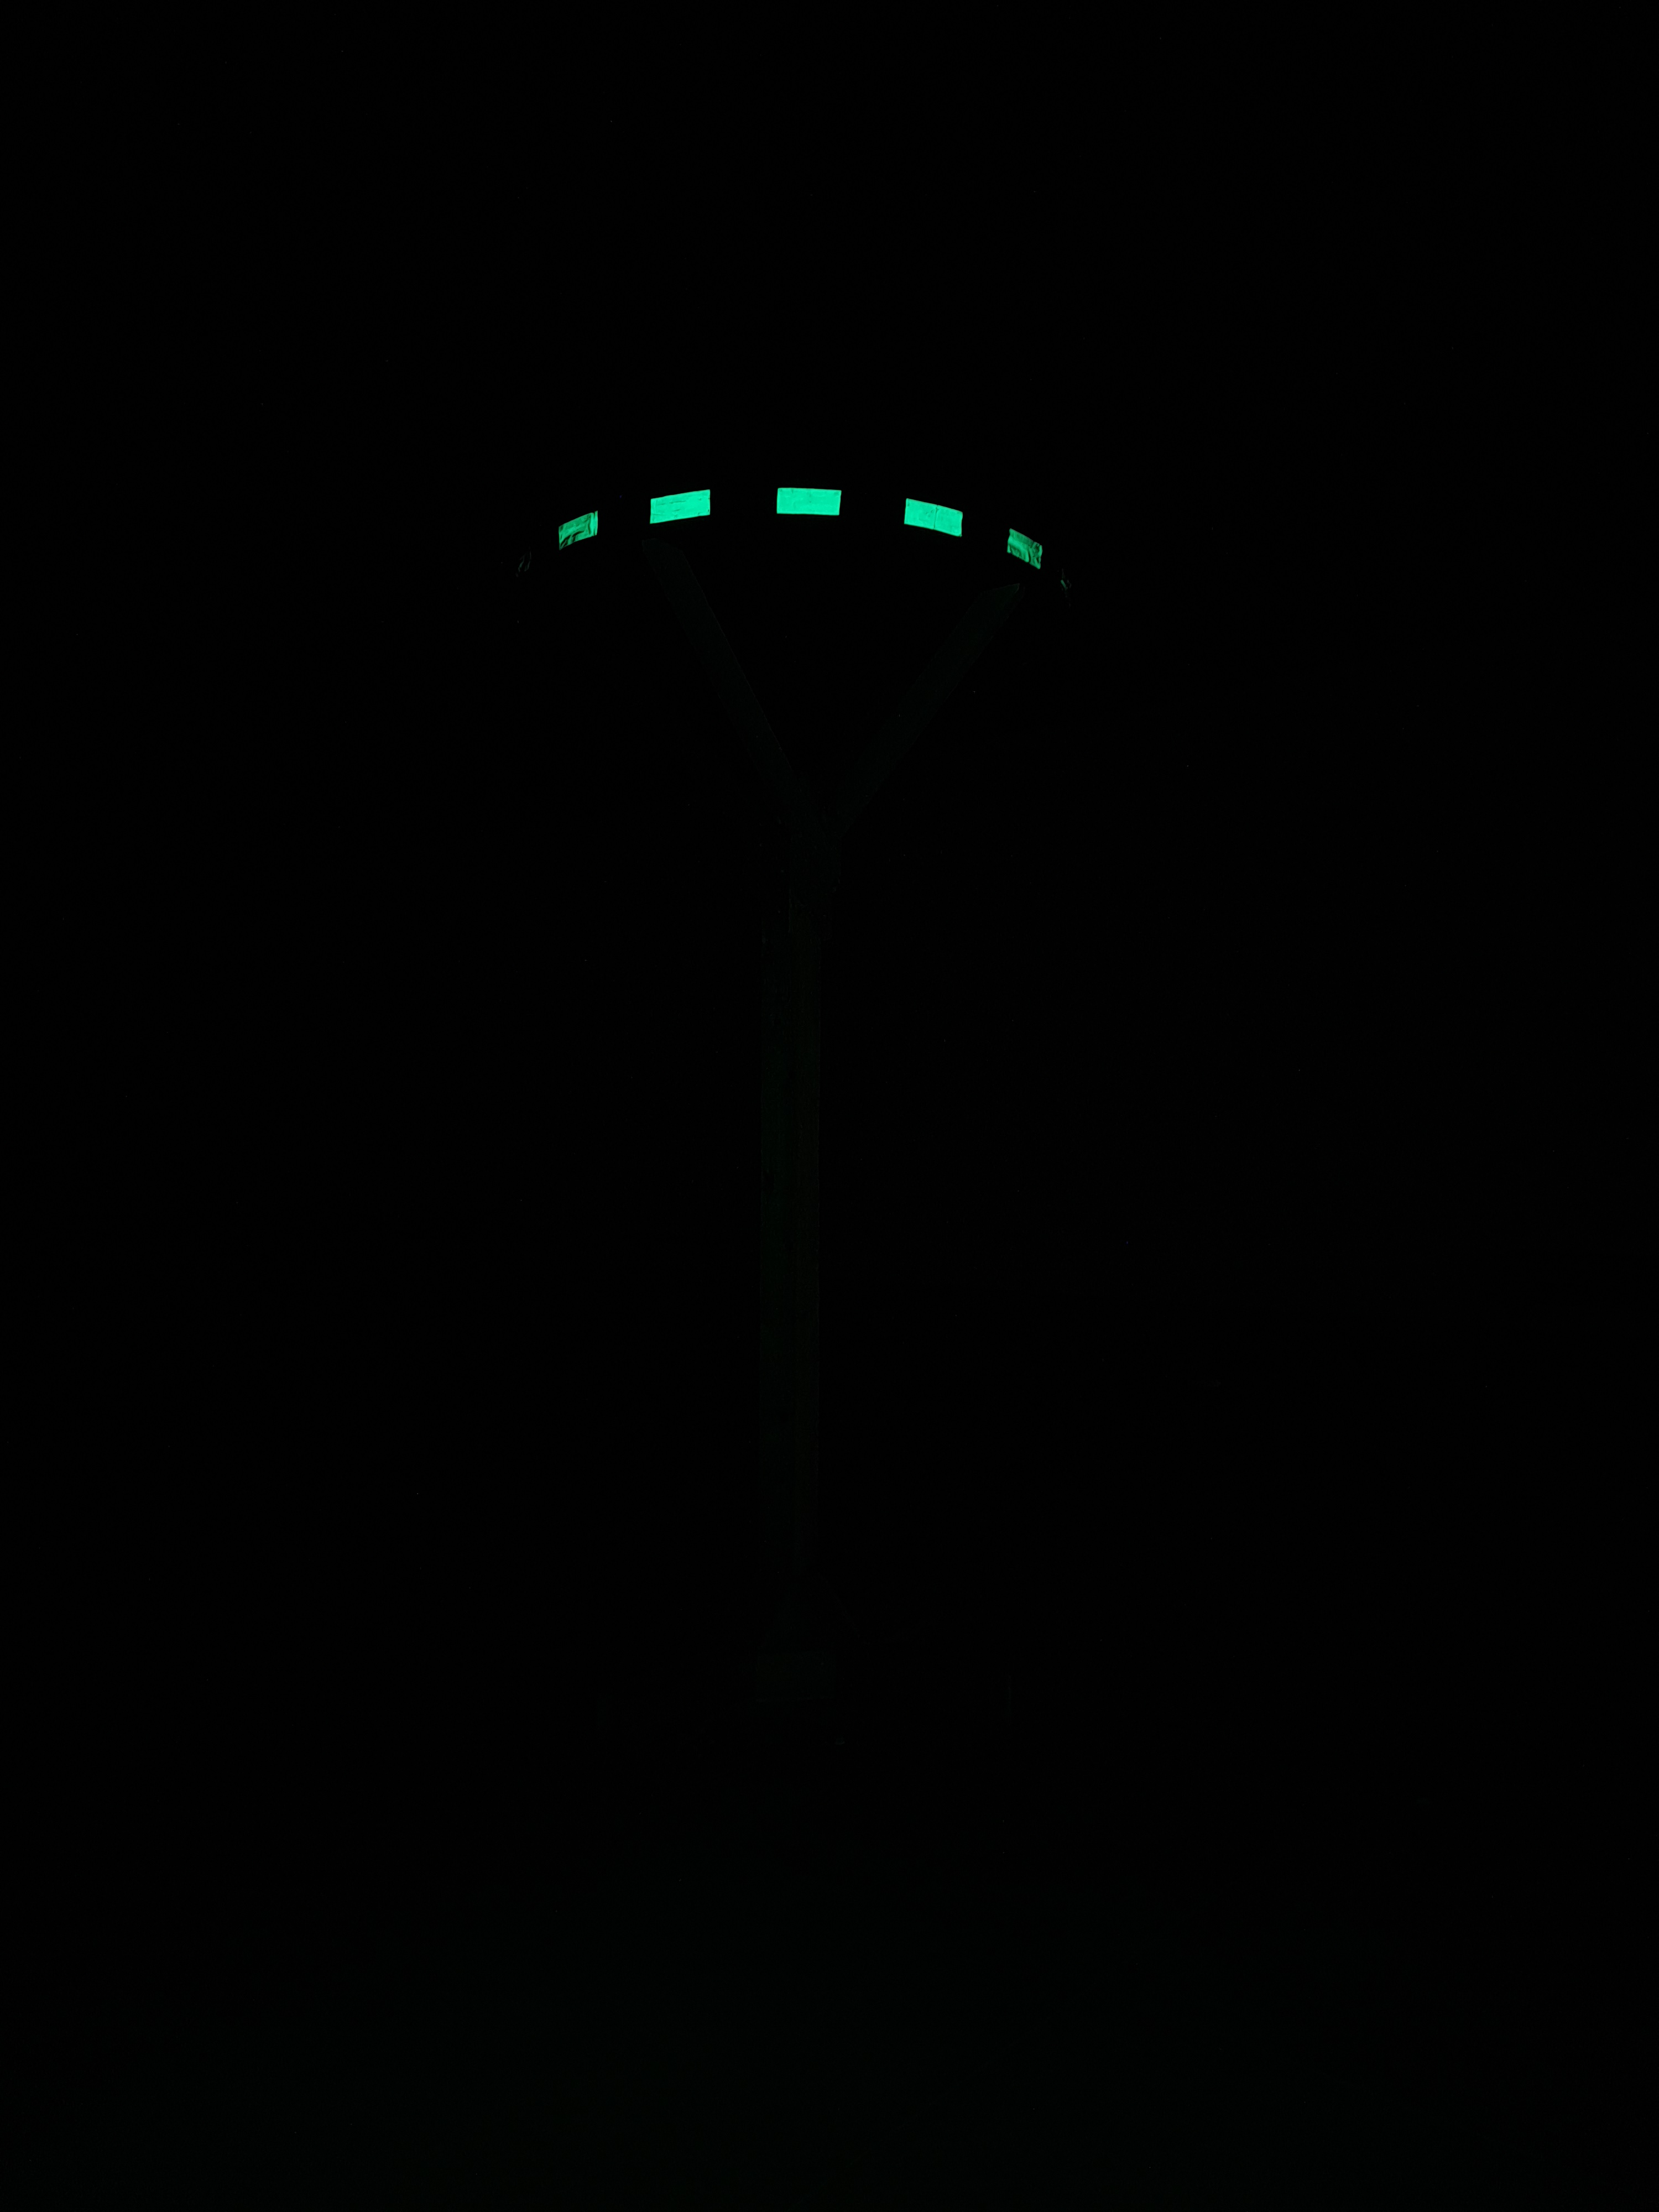hoop: (554, 484, 1046, 573)
